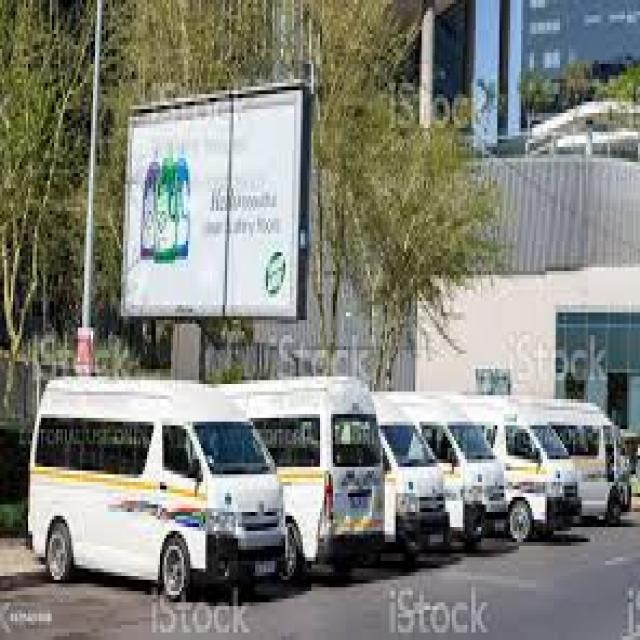MiniBus taxi: (24, 380, 292, 595), (298, 377, 389, 591), (387, 388, 454, 580), (515, 395, 588, 550), (458, 392, 508, 550)
